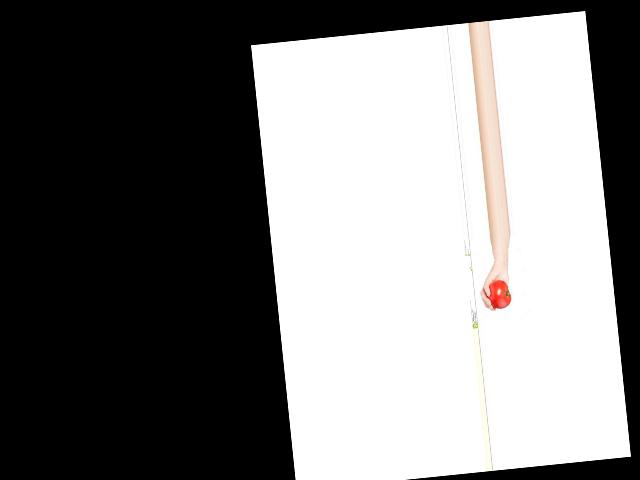tomato: (485, 278, 512, 309)
